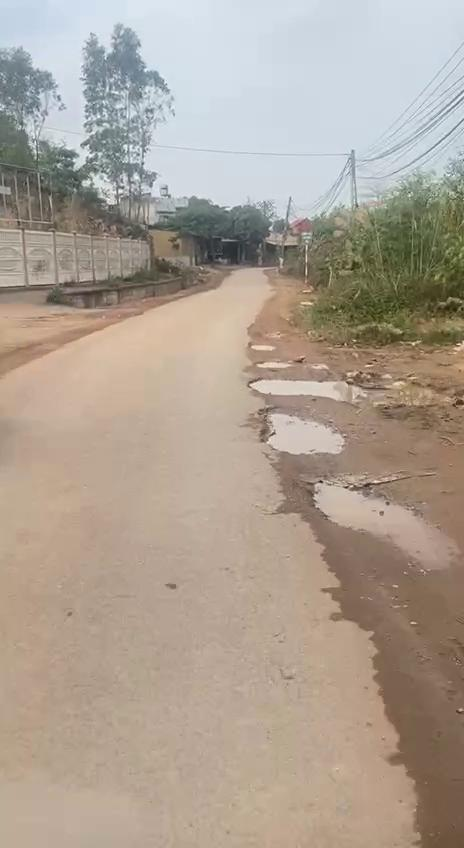pothole: (302, 468, 464, 573), (254, 406, 345, 459), (246, 368, 368, 406)
